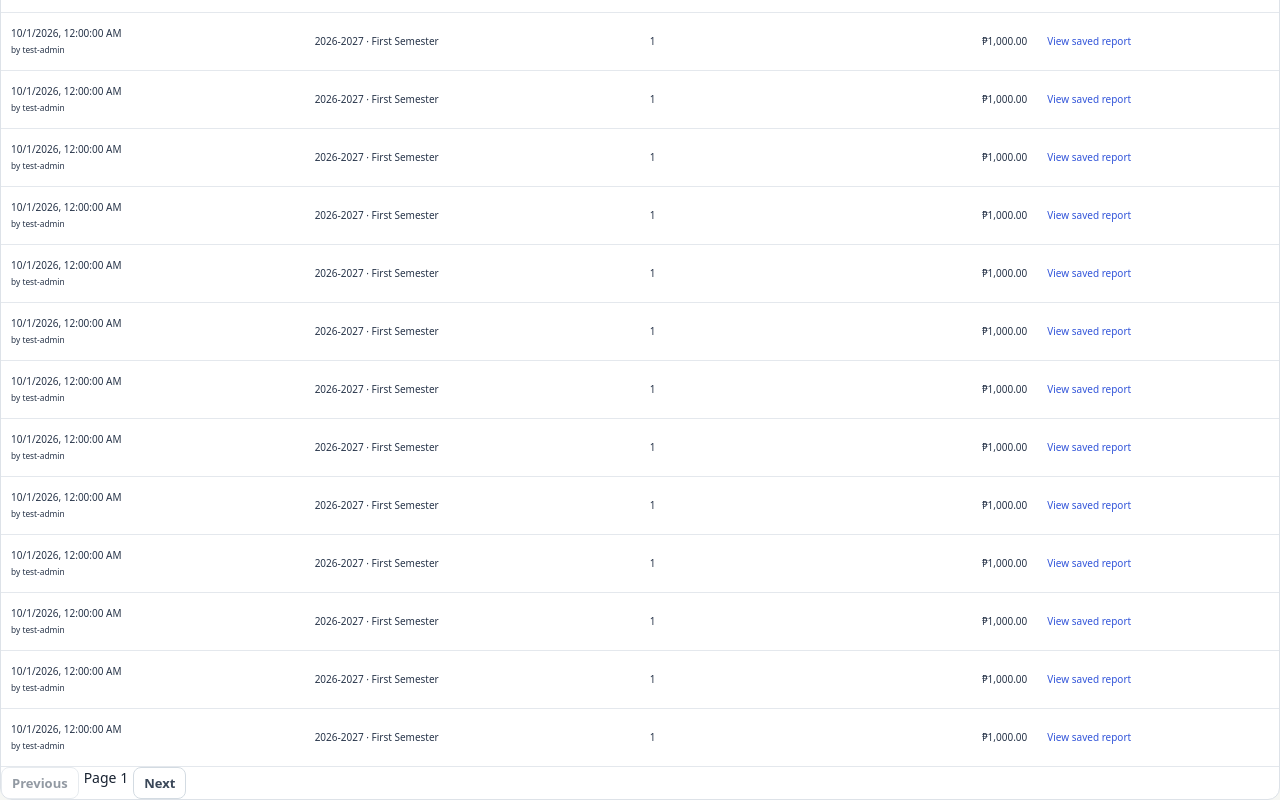
Test: 51 estimates show 50 rows followed by one final row
(page scrolled)
Click the button "Next". click: (160, 783)
box: [133,767,186,799]
(page scrolled)
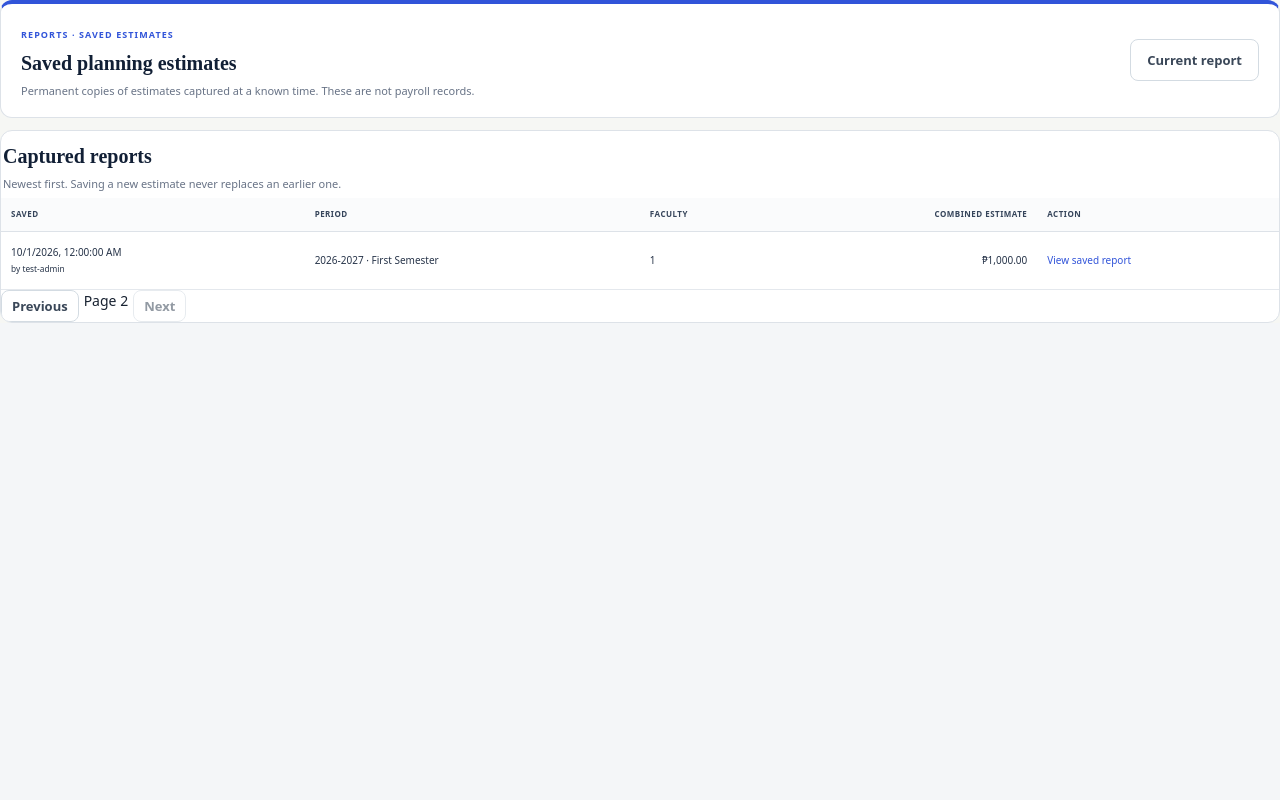
Now the number of links "View saved report" is 1, box [1047,253,1131,267]
Now the button "Next" is disabled, box [133,290,186,322]
